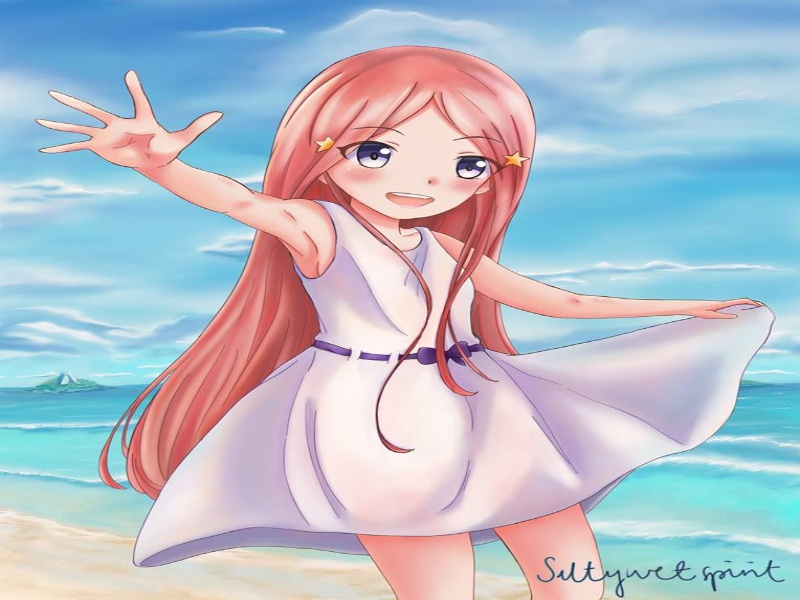dress: (83, 211, 773, 549)
person: (268, 38, 543, 244)
